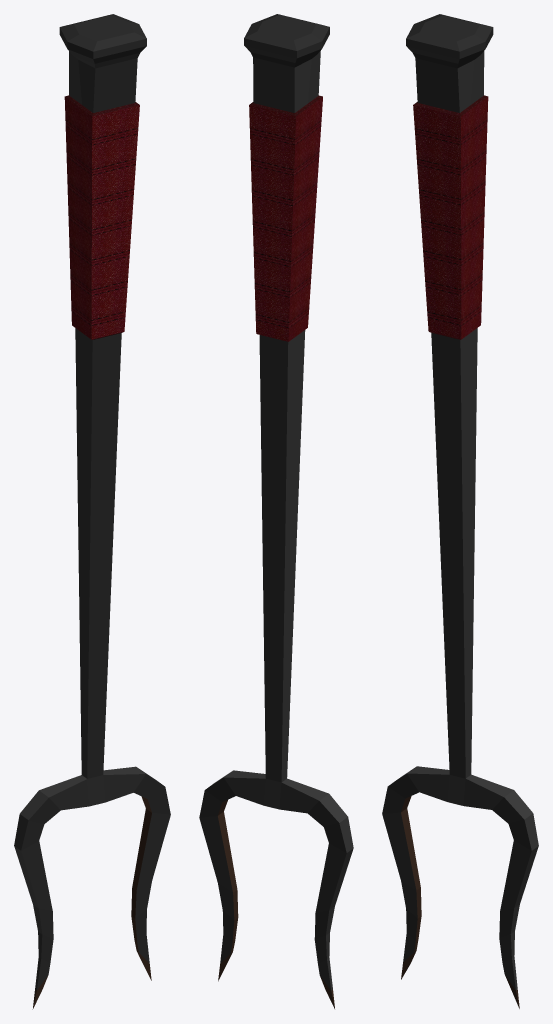
Rendered from BarbecueFork.fbx.
3 views of the same model, side by side, from view 1: azimuth 30°, elevation 25°; view 2: azimuth 150°, elevation 25°; view 3: azimuth 330°, elevation 25° (orthographic).
Parts seen in each view (by area): view 1: ZomboidBBQFork; view 2: ZomboidBBQFork; view 3: ZomboidBBQFork.
Boxes of the visible parts, x1,y1,x2,y2 form: ZomboidBBQFork: (14, 14, 170, 1009); ZomboidBBQFork: (199, 14, 353, 1008); ZomboidBBQFork: (382, 14, 538, 1008).
Size of the model in its own units: 0.0701 by 0.4365 by 0.0273.
